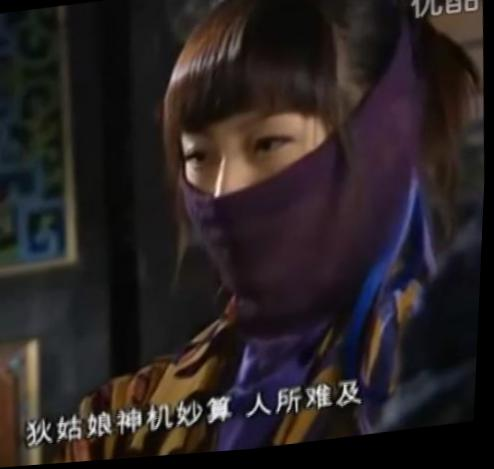WRONG: (170, 78, 360, 309)
